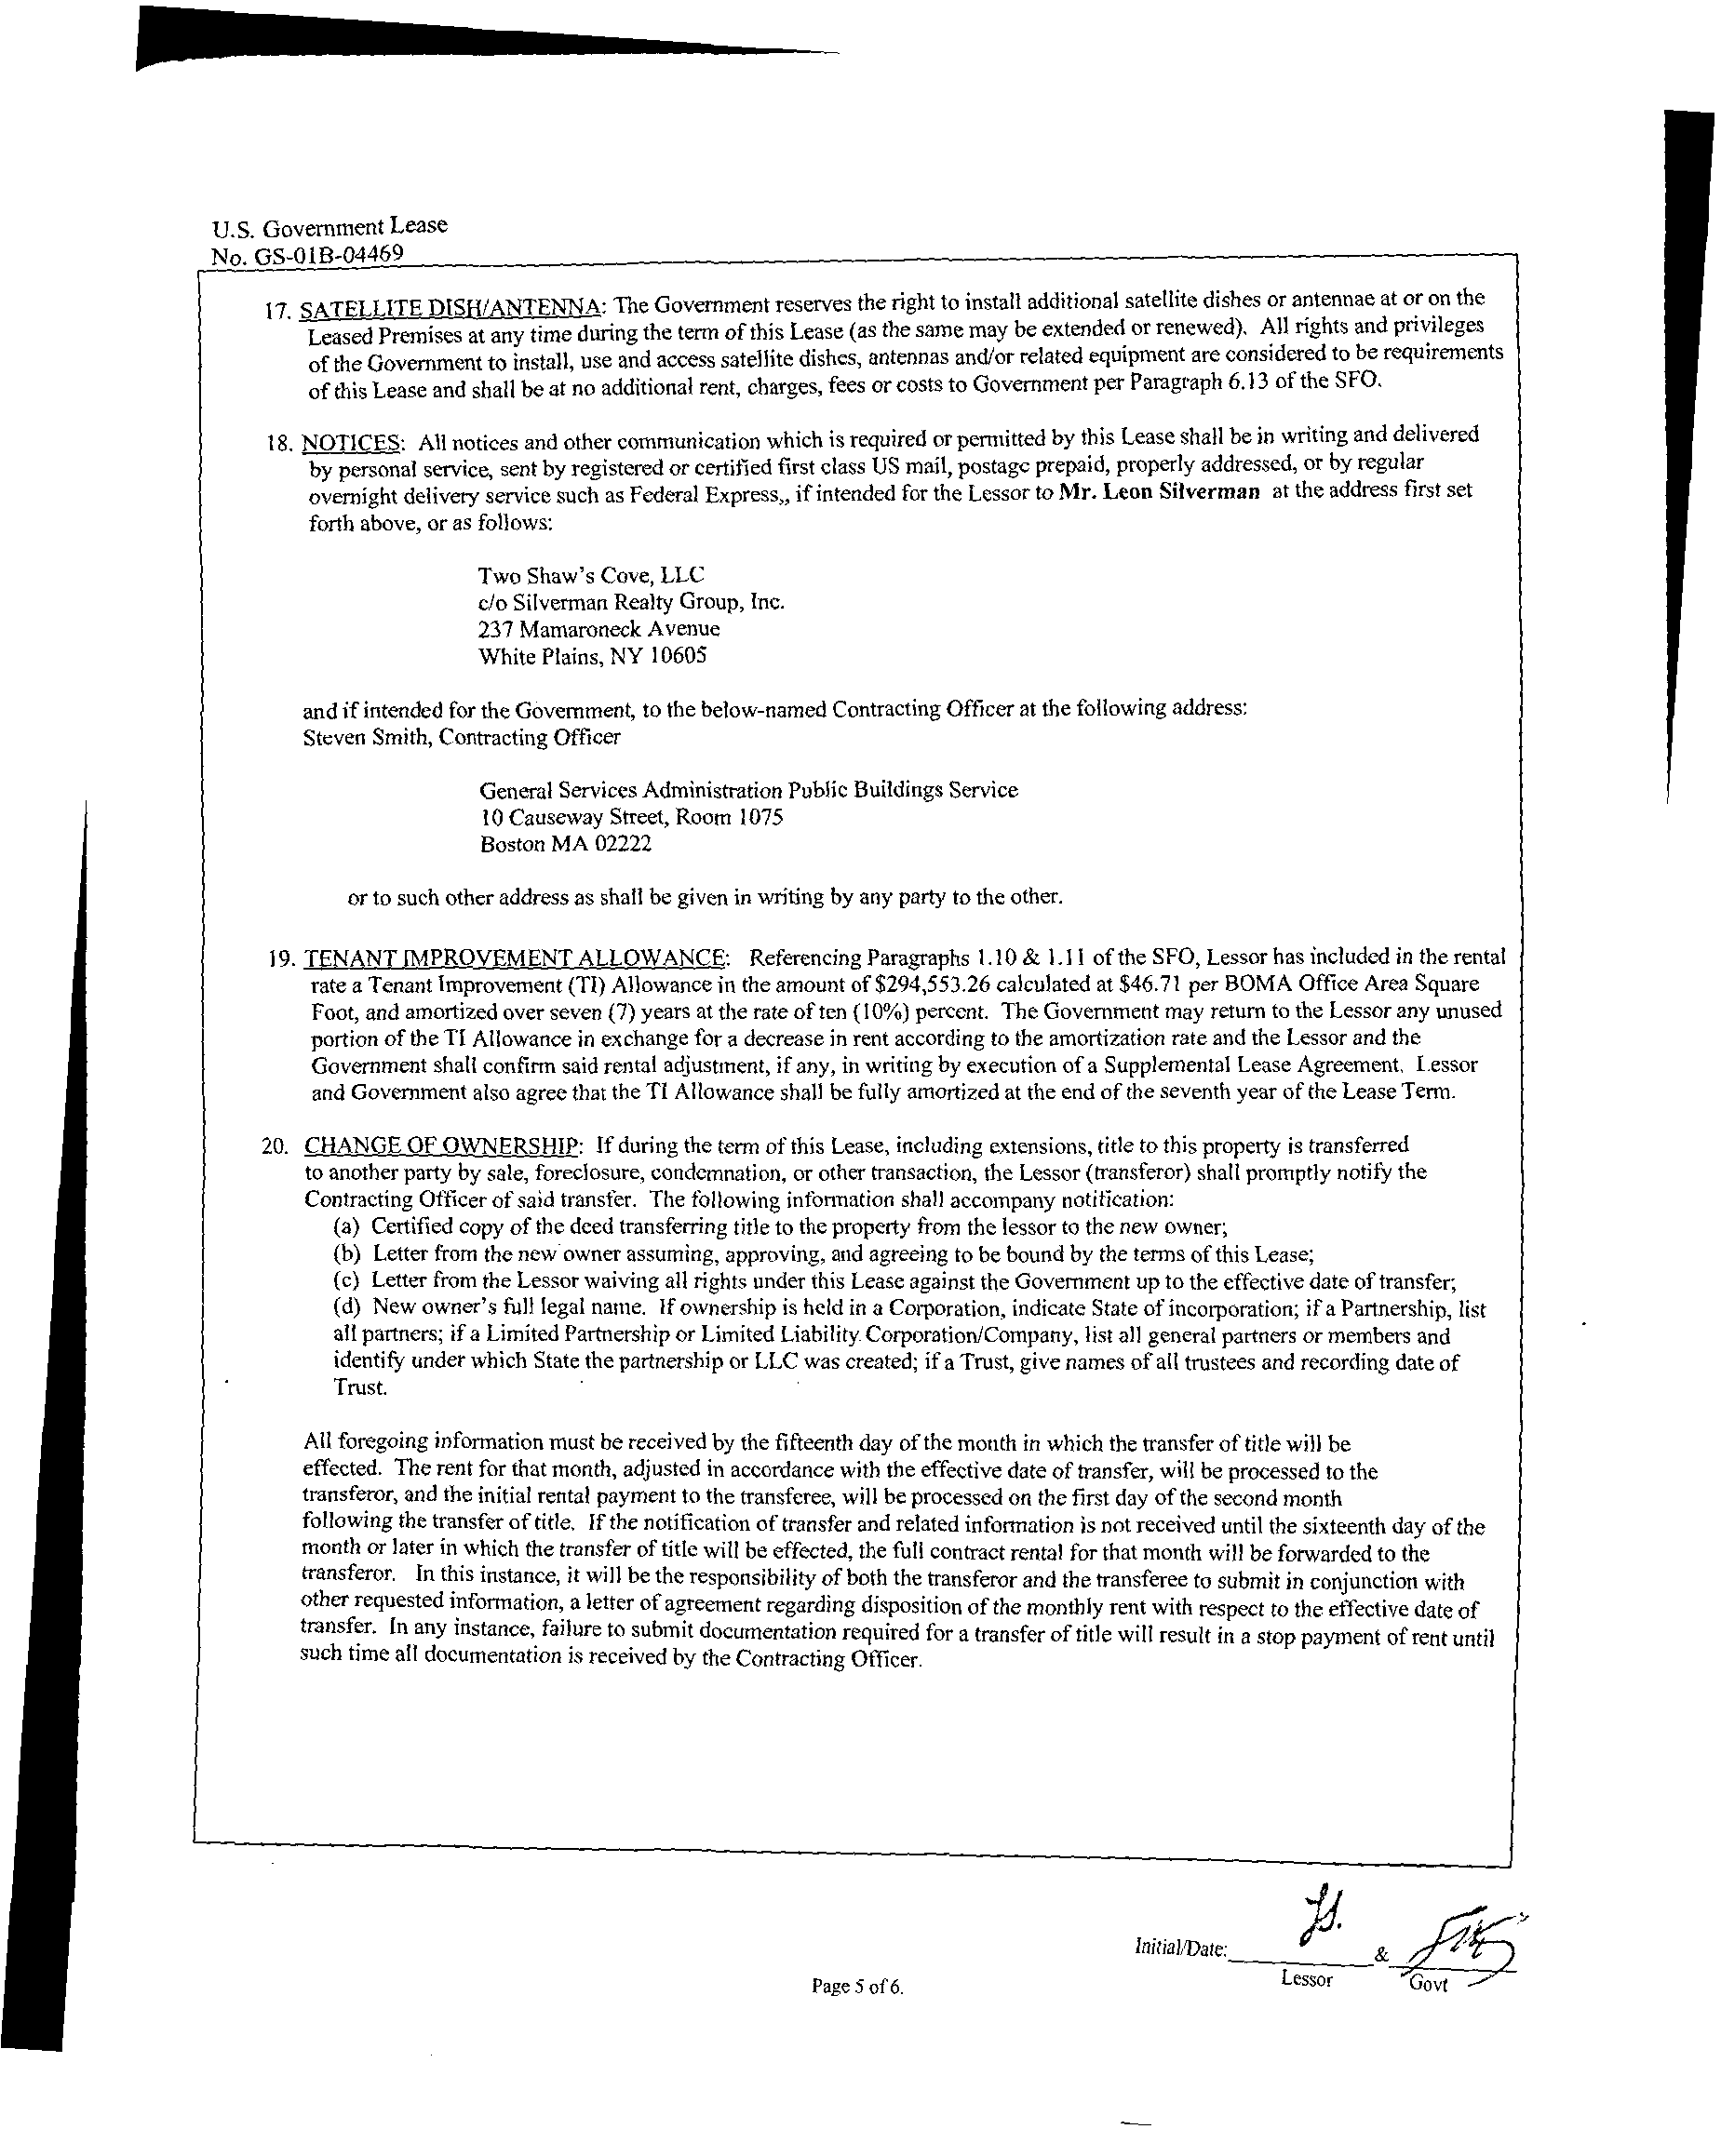handwritten: (1408, 1882, 1524, 1977), (1293, 1866, 1368, 1961)
